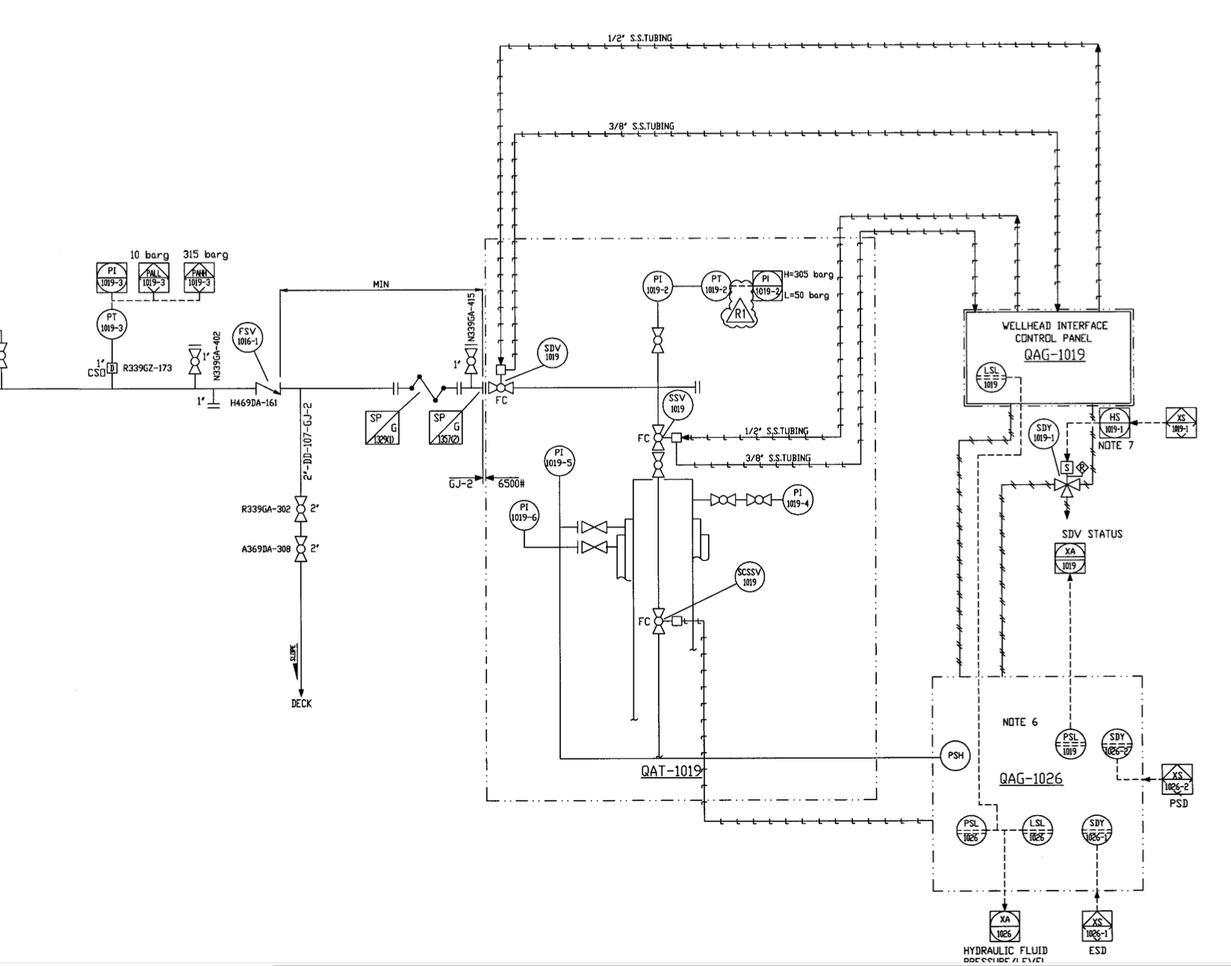Instrument: (778, 480, 819, 519), (1054, 724, 1088, 766), (1079, 808, 1112, 851), (542, 439, 577, 478), (506, 496, 542, 533), (1097, 725, 1132, 763), (957, 809, 987, 852), (734, 557, 765, 598), (1020, 812, 1056, 846), (641, 266, 675, 302), (231, 318, 264, 355), (1028, 413, 1058, 453), (535, 335, 569, 370), (698, 268, 731, 304), (975, 359, 1007, 395), (96, 306, 127, 341), (663, 388, 695, 421)
Instrument-square: (1074, 905, 1118, 946), (90, 255, 132, 296), (1159, 403, 1200, 442), (1154, 758, 1195, 797), (1049, 538, 1089, 577), (179, 261, 221, 298), (987, 902, 1023, 945), (746, 267, 788, 303), (134, 260, 173, 294)
